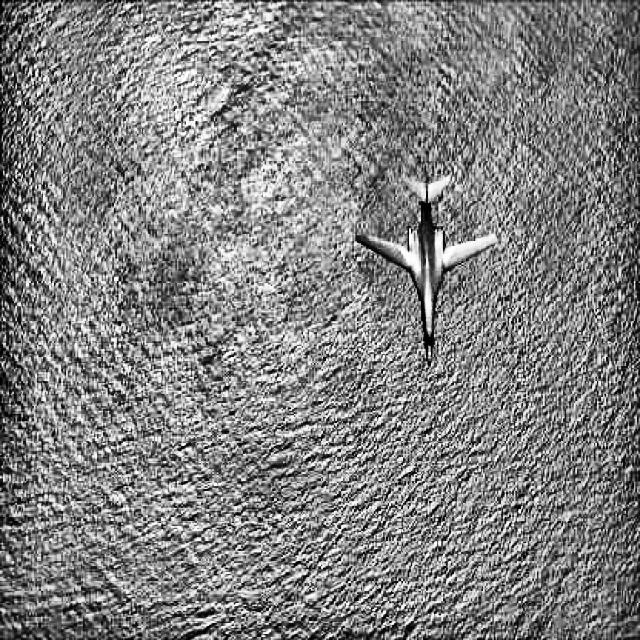B1: (354, 174, 498, 368)
